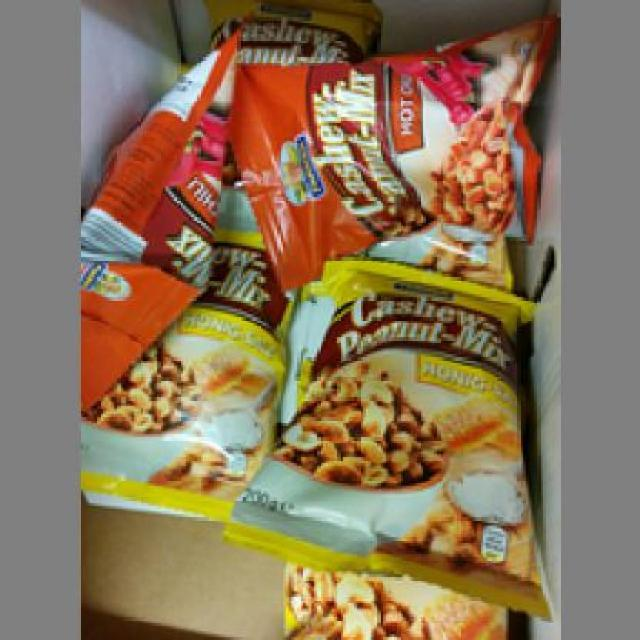Nuts: (215, 255, 554, 614), (226, 12, 554, 294), (77, 34, 243, 412)
